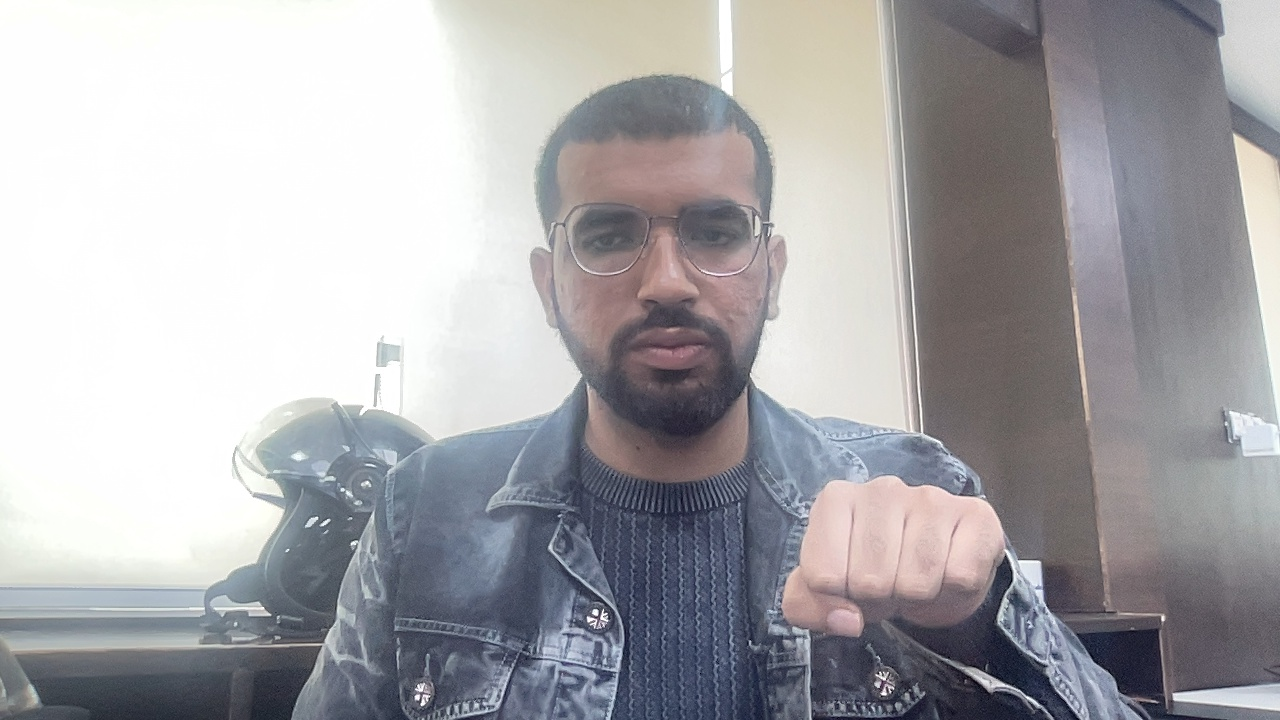Yes: (757, 428, 1040, 678)
